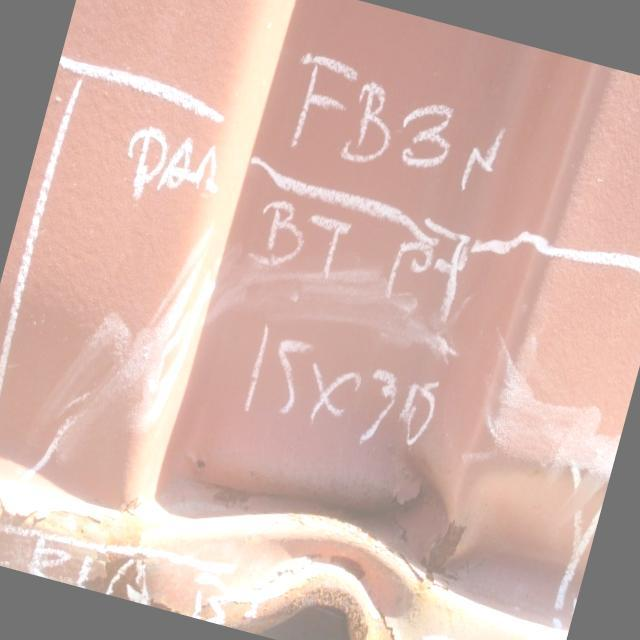dent: (1, 260, 619, 621)
